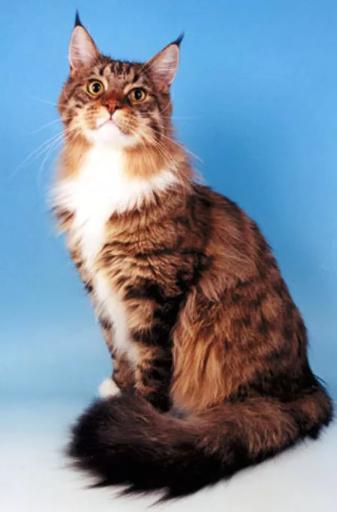cat_sitting: (52, 14, 332, 498)
